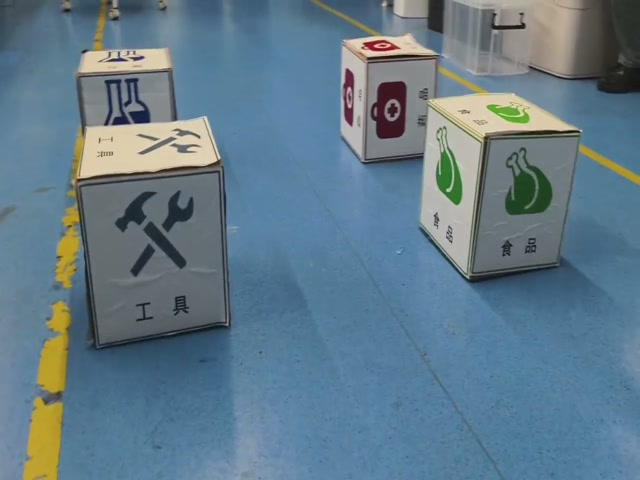Cube_food: (428, 90, 582, 139)
Cube_ins: (78, 48, 172, 78)
Cube_medicine: (341, 30, 434, 63)
Cube_tool: (77, 119, 221, 179)
